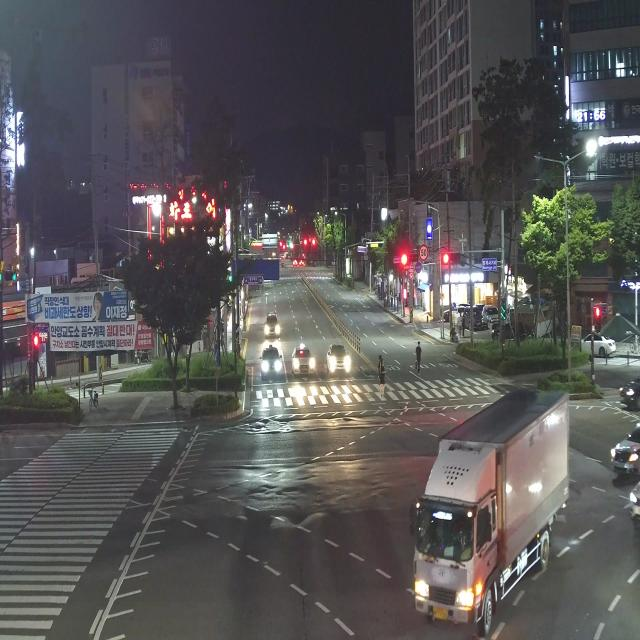Car: (321, 323, 360, 382), (288, 338, 317, 385), (260, 343, 291, 383), (262, 303, 290, 343)
Truck: (401, 368, 583, 638)
